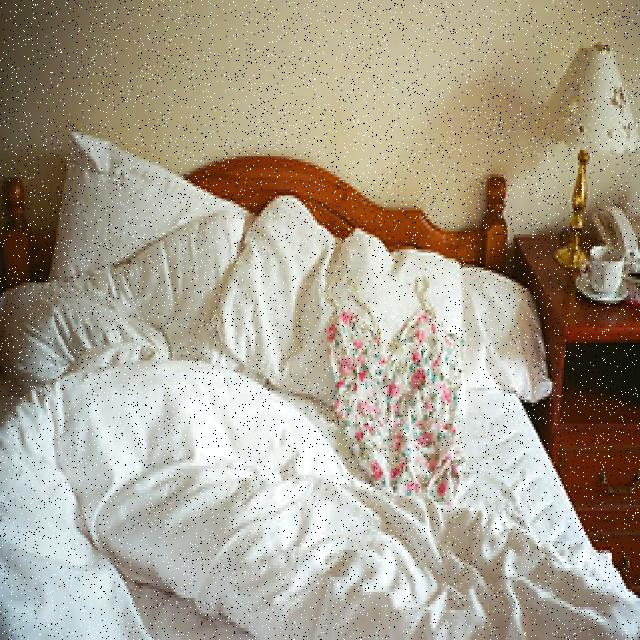bed: (0, 136, 608, 640)
